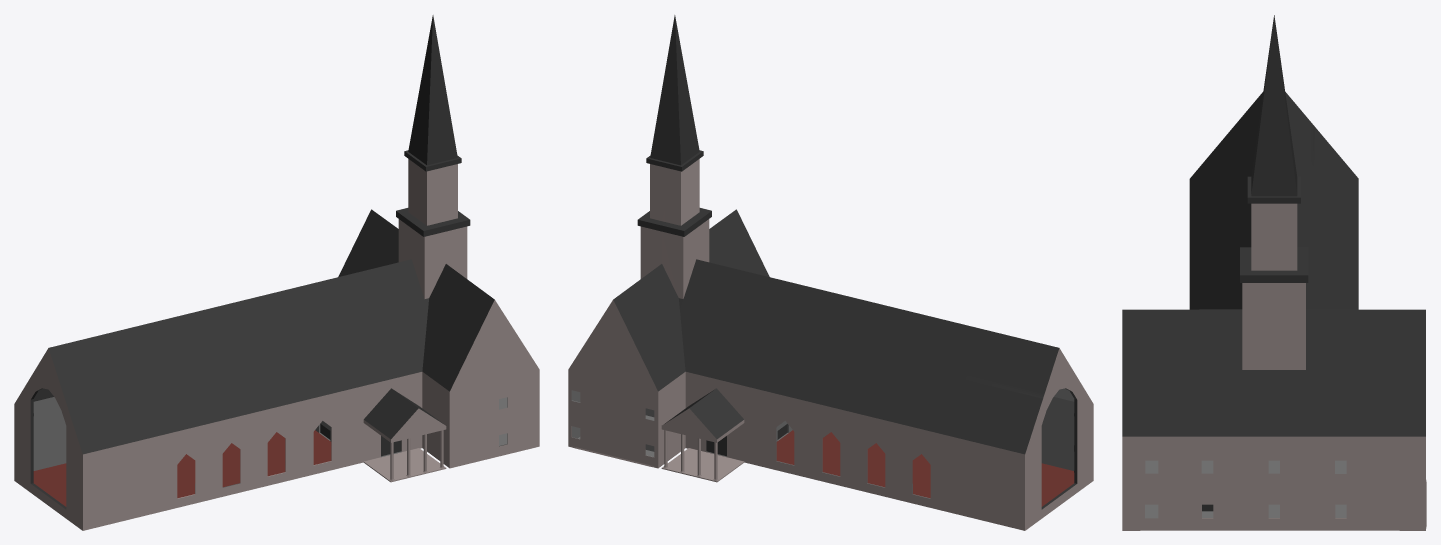
The model's file is Church_Exterior.fbx.
3 renders of one model, left to right at view 1: azimuth 30°, elevation 25°; view 2: azimuth 150°, elevation 25°; view 3: azimuth 270°, elevation 25°, orthographic. The views are drawn at different scales.
Visible parts, largest first — view 1: Church_Exterior, Portch, Columns; view 2: Church_Exterior, Portch, Columns; view 3: Church_Exterior.
Boxes of the visible parts, box(x1,y1,x2,y2) form: Church_Exterior: box(14, 15, 539, 530); Portch: box(363, 448, 446, 482); Columns: box(389, 430, 444, 480); Church_Exterior: box(568, 15, 1093, 530); Portch: box(661, 448, 744, 482); Columns: box(663, 430, 718, 480); Church_Exterior: box(1122, 15, 1426, 530).
Size of the model in its own units: 4727 by 4189 by 2356.
